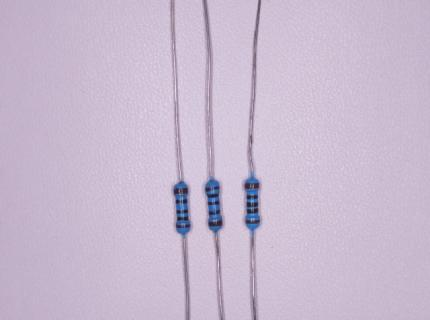Black band: (207, 193, 219, 199), (247, 208, 259, 214), (176, 199, 188, 204), (209, 210, 221, 215), (177, 209, 188, 214), (177, 216, 188, 221), (247, 202, 258, 207), (208, 201, 220, 205), (246, 195, 258, 199)
Brown band: (244, 183, 260, 189), (205, 186, 220, 192), (174, 188, 189, 194), (208, 220, 223, 226), (245, 219, 260, 224), (176, 224, 190, 228)
